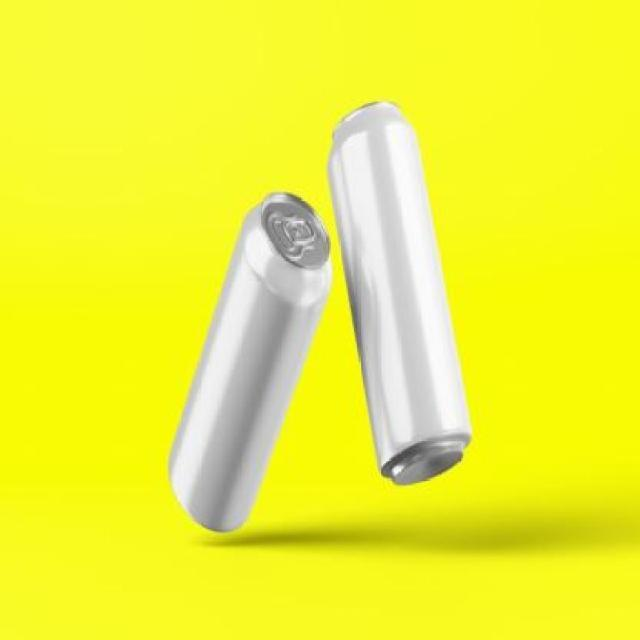can: (324, 84, 502, 518), (164, 184, 338, 558)
